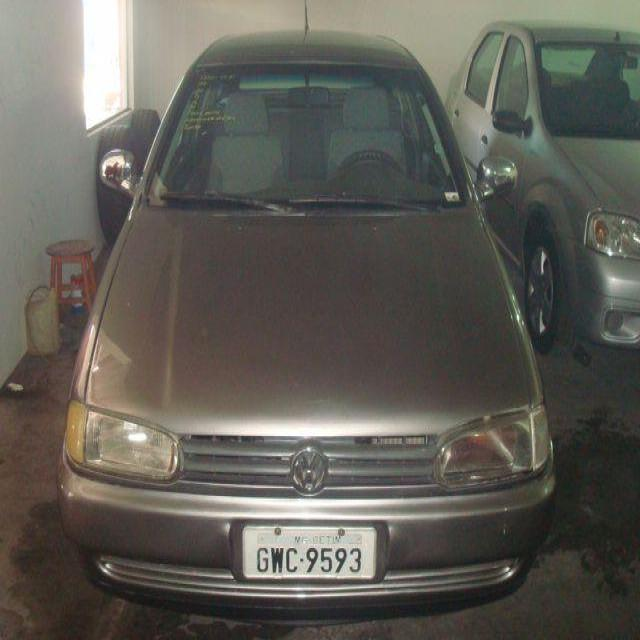Placa: (240, 523, 378, 584)
